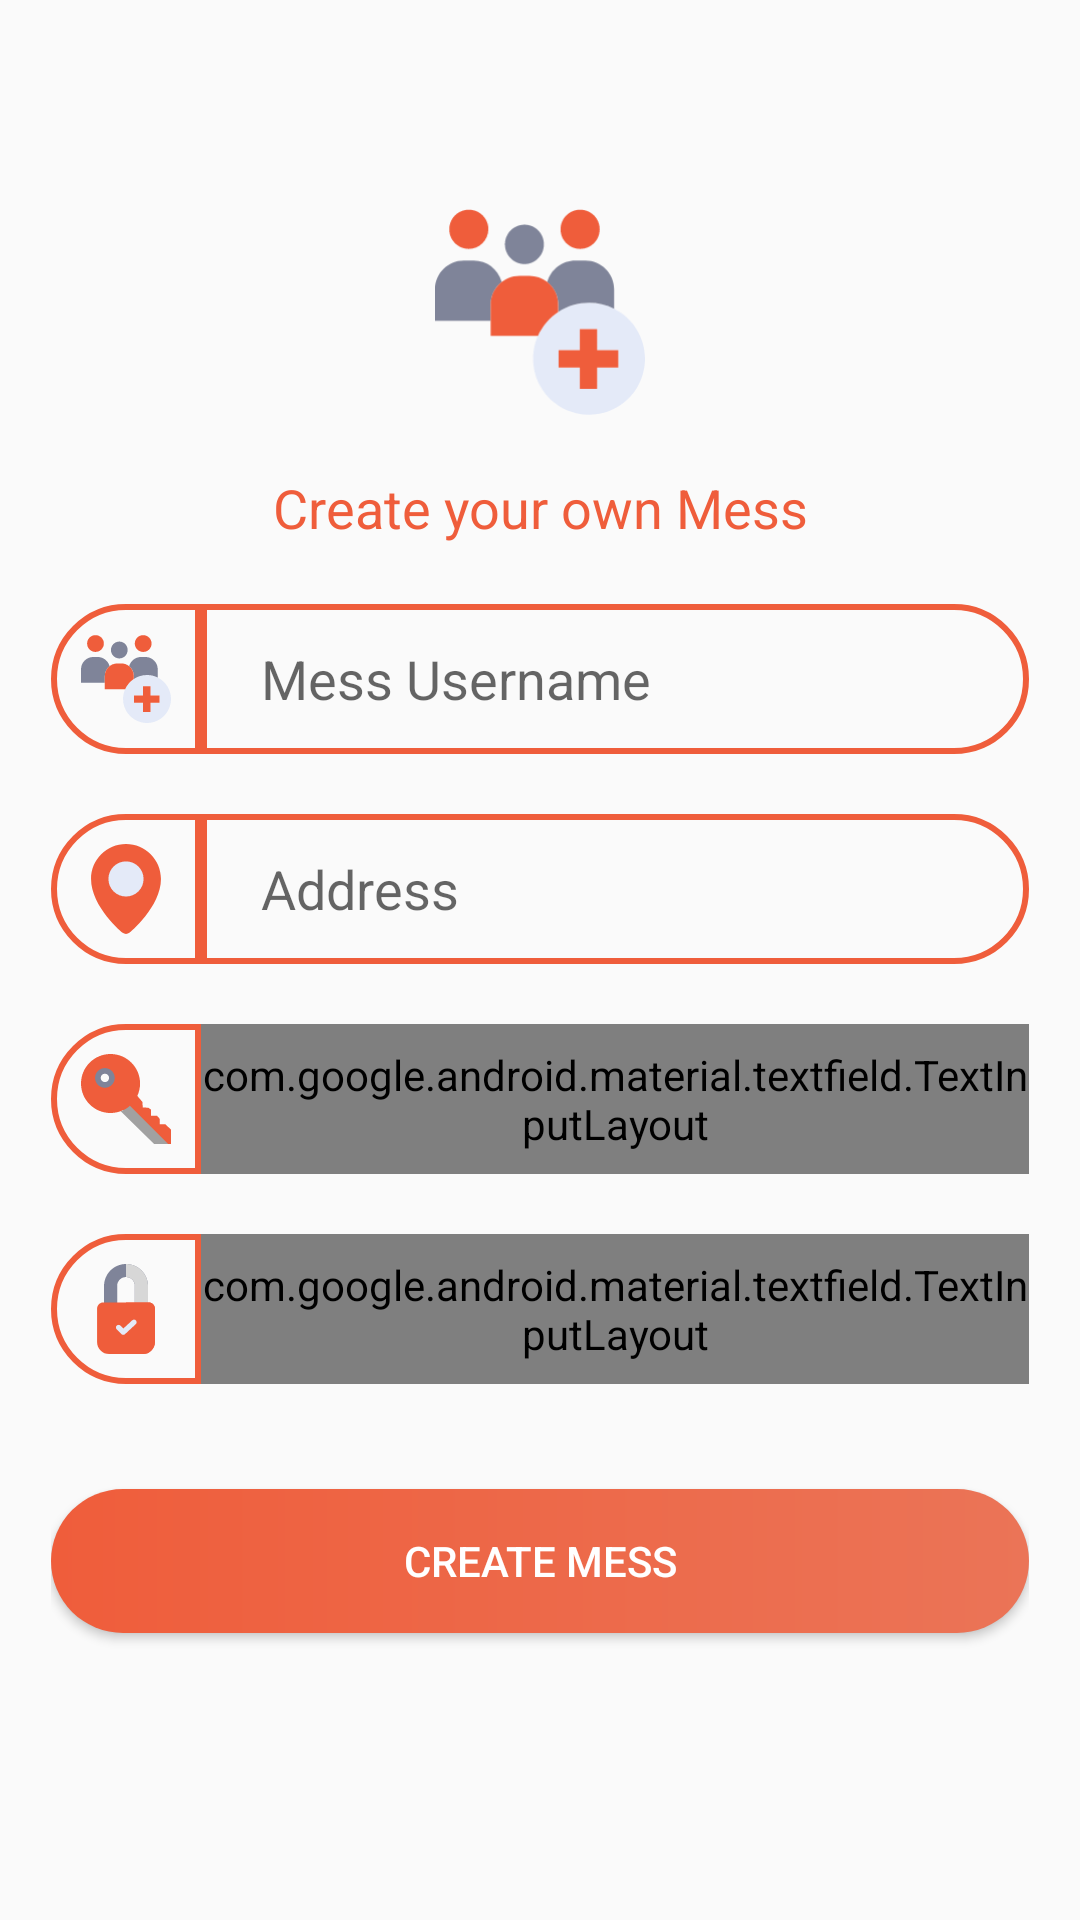

Where icons sit on this 1080*1920 app screen, as {"x1": x1, "y1": y1, "x2": x2, "y2": y2}:
key: {"x1": 81, "y1": 1054, "x2": 171, "y2": 1144}
location: {"x1": 91, "y1": 844, "x2": 161, "y2": 934}
lock check: {"x1": 97, "y1": 1264, "x2": 155, "y2": 1354}
